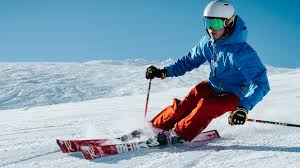skis: (55, 129, 220, 160)
